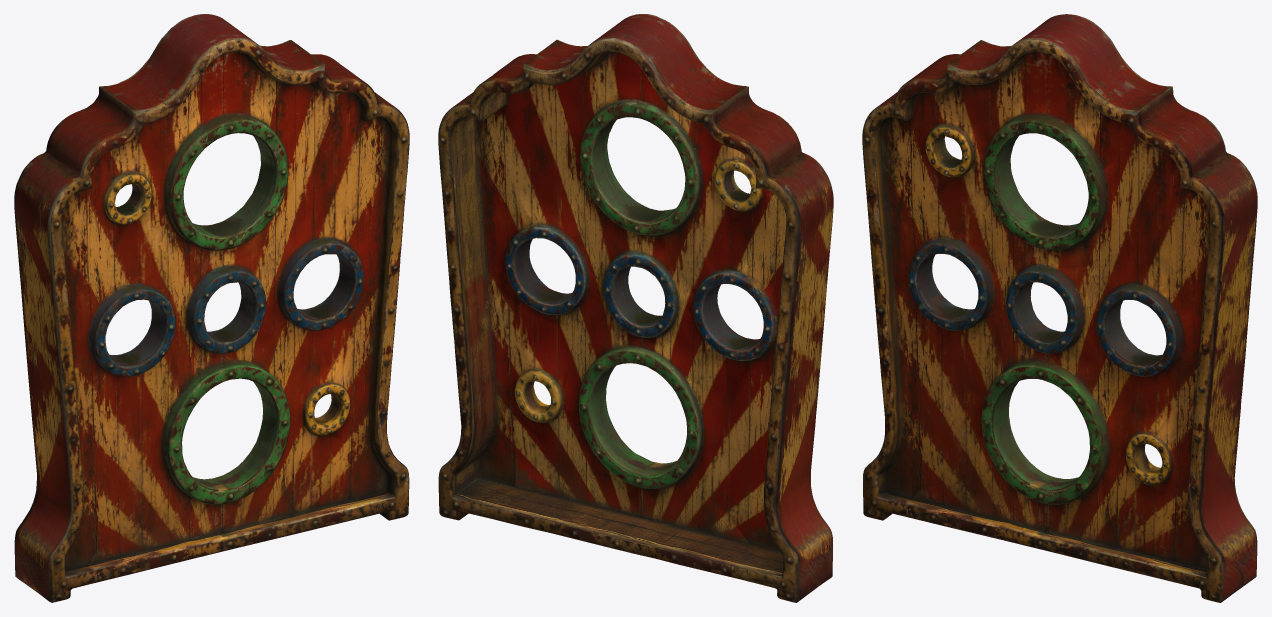
Rendered from Meshy_AI__0527191335_texture.fbx.
The picture shows the model from 3 angles, left to right: view 1: azimuth 30°, elevation 25°; view 2: azimuth 150°, elevation 25°; view 3: azimuth 330°, elevation 25°; orthographic projection.
Visible parts, largest first — view 1: Mesh_0; view 2: Mesh_0; view 3: Mesh_0.
Boxes of the visible parts, x1=… form: Mesh_0: x1=14, y1=14, x2=409, y2=602; Mesh_0: x1=438, y1=14, x2=833, y2=602; Mesh_0: x1=862, y1=14, x2=1257, y2=602.
Bounding box in the file's own units: 139 × 191 × 26.65.
1 material, 1 textured.
